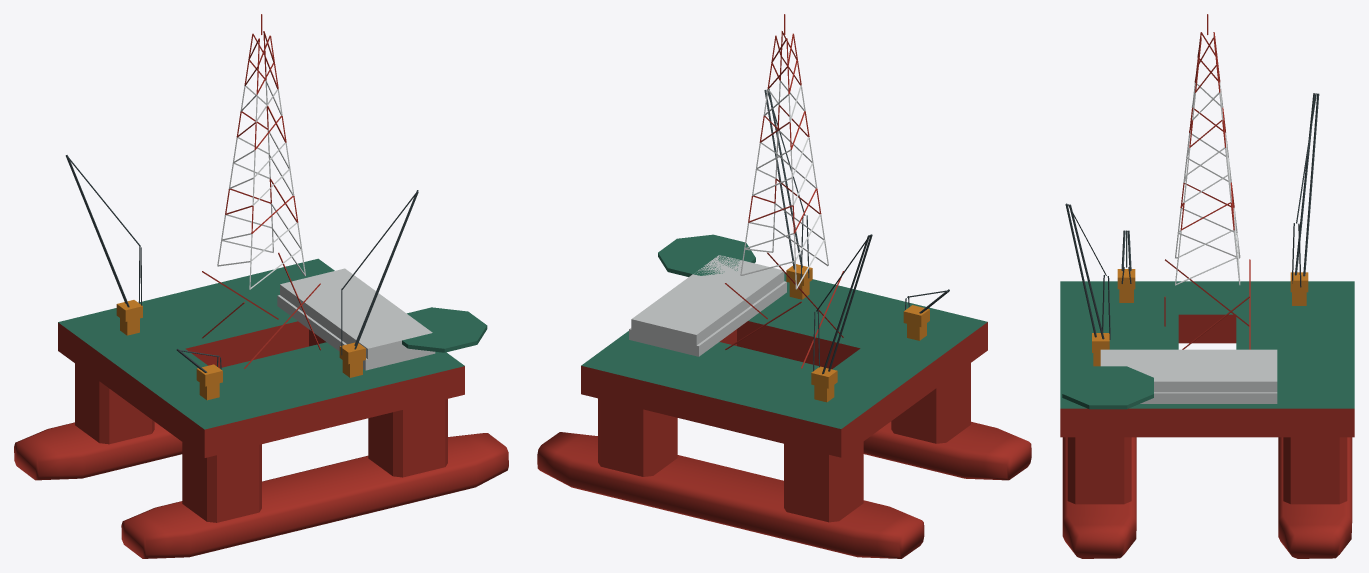
Rendered from hysy-981-ship-proxy.glb.
3 views of the same model, side by side, from view 1: azimuth 30°, elevation 25°; view 2: azimuth 150°, elevation 25°; view 3: azimuth 270°, elevation 25° (orthographic).
Parts seen in each view (by area): view 1: ShipProxy; view 2: ShipProxy; view 3: ShipProxy.
Boxes of the visible parts, left/top/right/bottom form: ShipProxy: left=14, top=14, right=508, bottom=558; ShipProxy: left=537, top=14, right=1031, bottom=558; ShipProxy: left=1060, top=14, right=1354, bottom=558.
Bounding box in the file's own units: 114 × 138 × 80.
